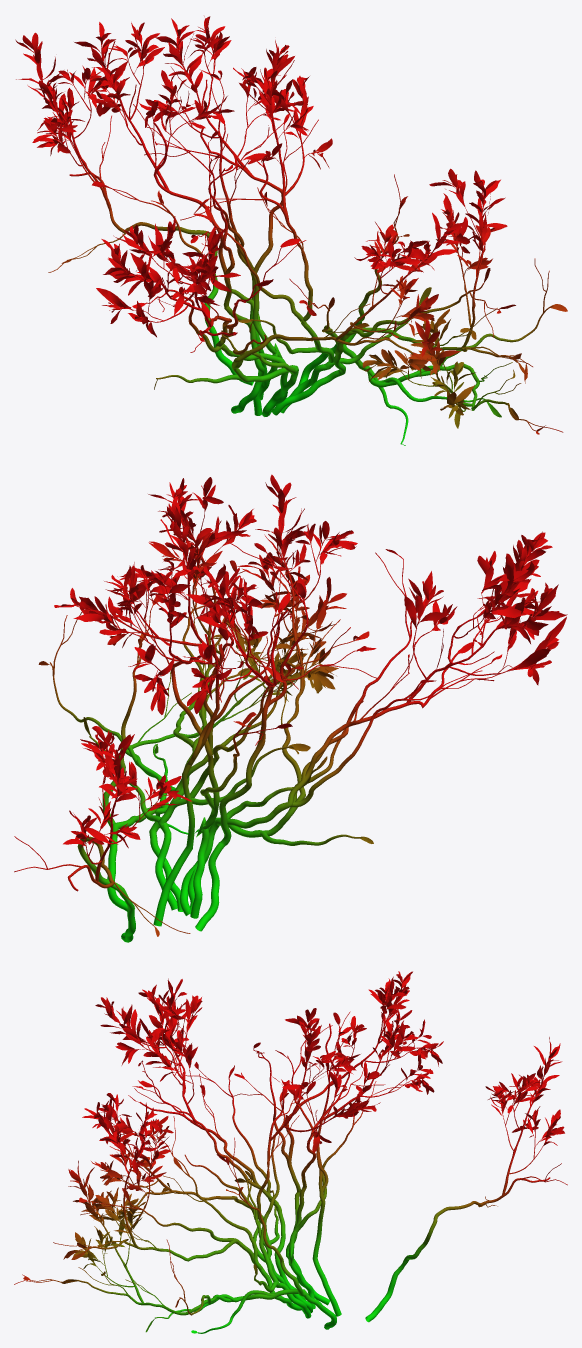
File: Downy Willow_LOD0_Var15_wknlfiuqx.fbx
3 renders of one model, top to bottom at view 1: azimuth 30°, elevation 25°; view 2: azimuth 150°, elevation 25°; view 3: azimuth 270°, elevation 25°, orthographic. The views are drawn at different scales.
Parts seen in each view (by area): view 1: _0gzy_Var15_LOD0; view 2: _0gzy_Var15_LOD0; view 3: _0gzy_Var15_LOD0.
Boxes of the visible parts, x1,y1,x2,y2 form: _0gzy_Var15_LOD0: (15, 16, 567, 445); _0gzy_Var15_LOD0: (14, 474, 567, 942); _0gzy_Var15_LOD0: (14, 971, 567, 1333).
Size of the model in its own units: 144 by 110 by 181.
